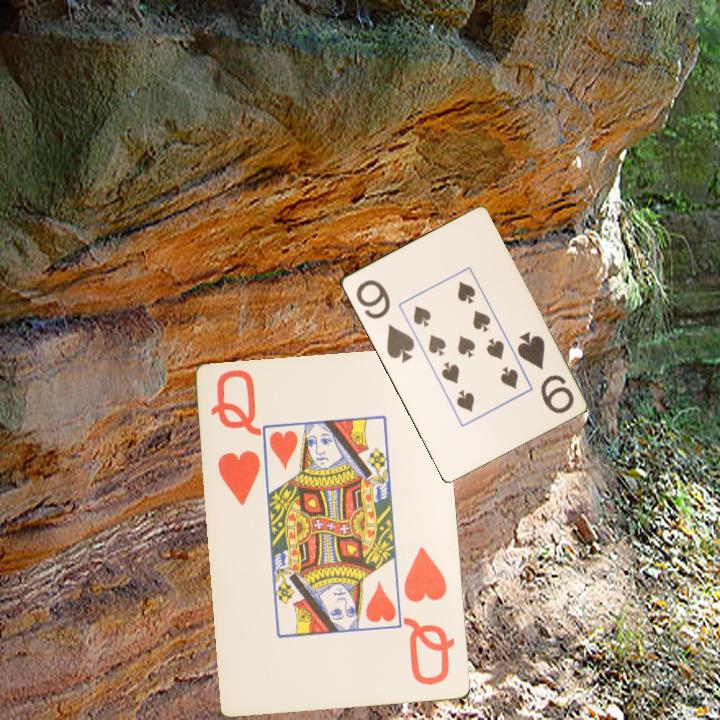9s: (352, 276, 417, 366), (513, 327, 577, 417)
Qh: (400, 544, 459, 688), (208, 366, 264, 509)
